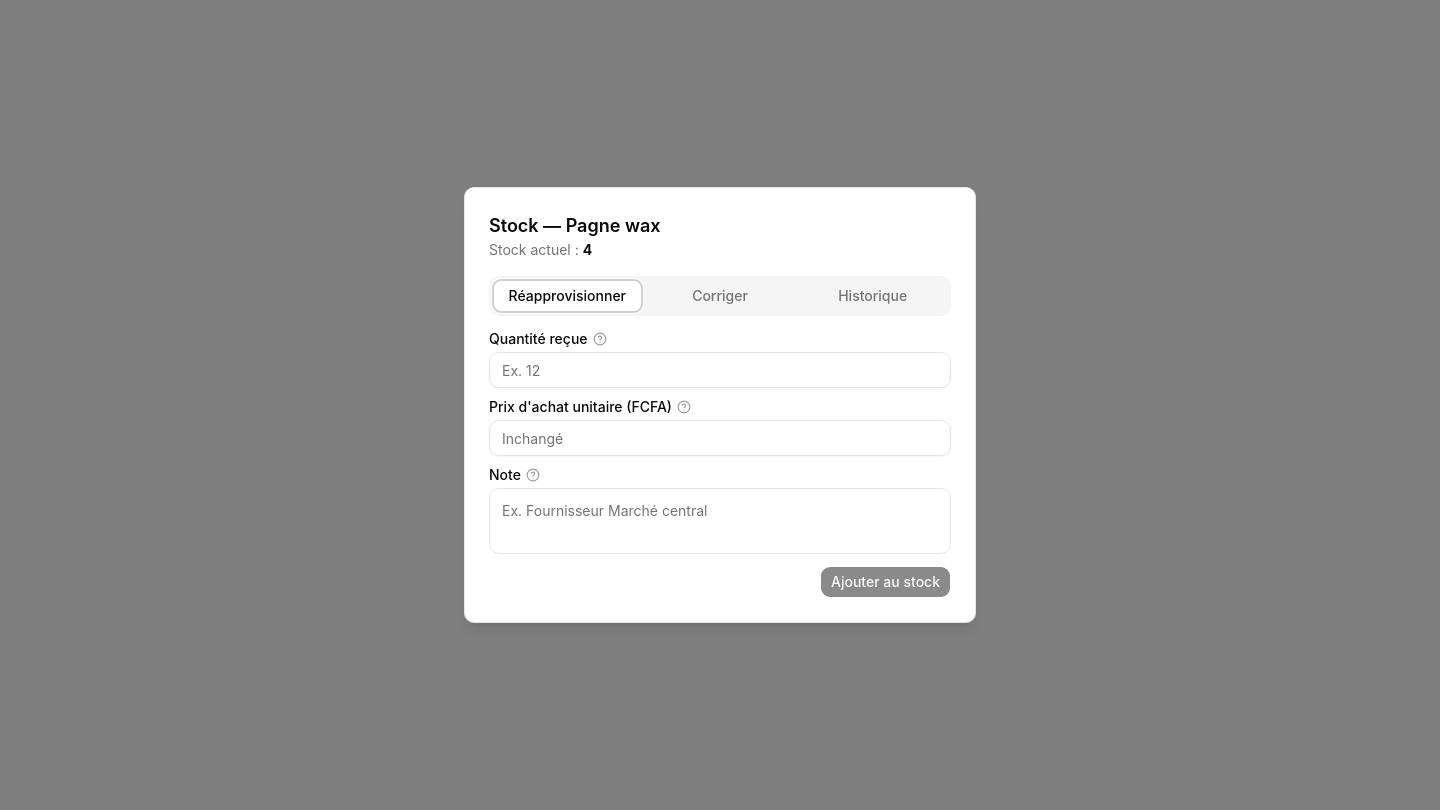
Scenario: StockDialog › restocks with the note and the new purchase price, then shows the new stock and the history
Type "12" into the field labelled "Quantité reçue" at [720, 370], box [489, 352, 951, 388]
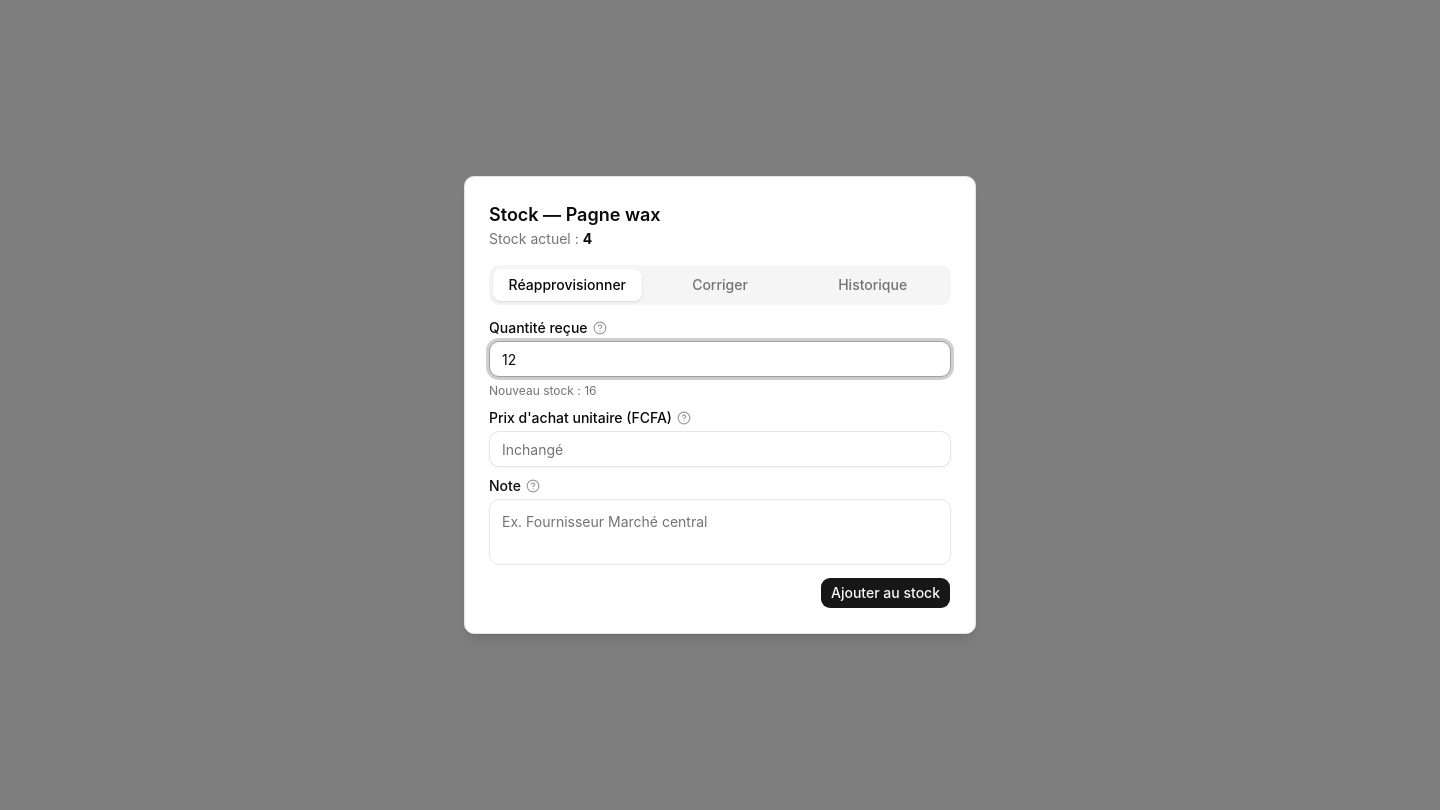
Expected: the text "Nouveau stock : 16" is shown, [489, 383, 596, 398]
Type "1500" into the field labelled "Prix d'achat unitaire (FCFA)" at [720, 449], box [489, 431, 951, 467]
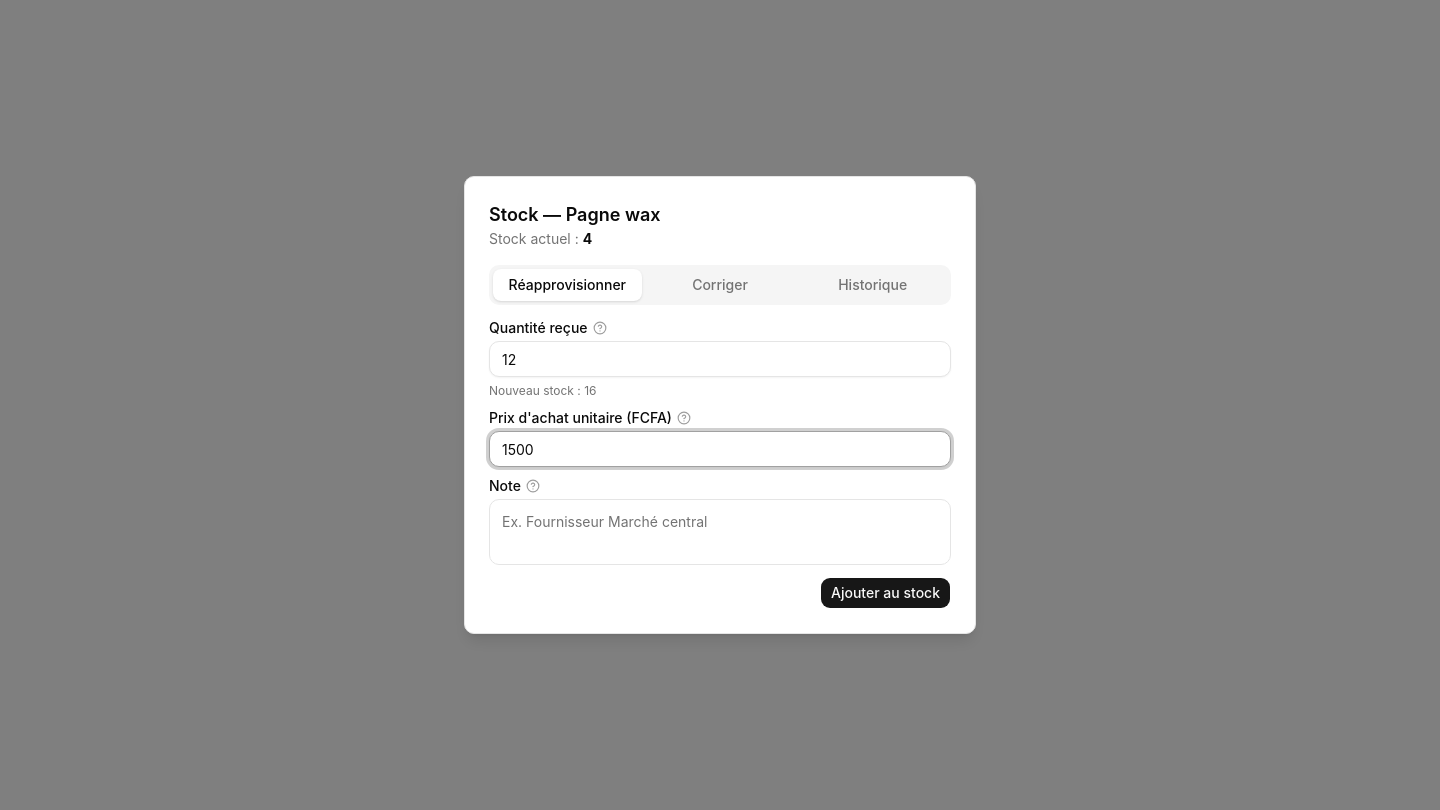
Type "Fournisseur Akwa" into the text box labelled "Note" at [720, 532], box [489, 499, 951, 565]
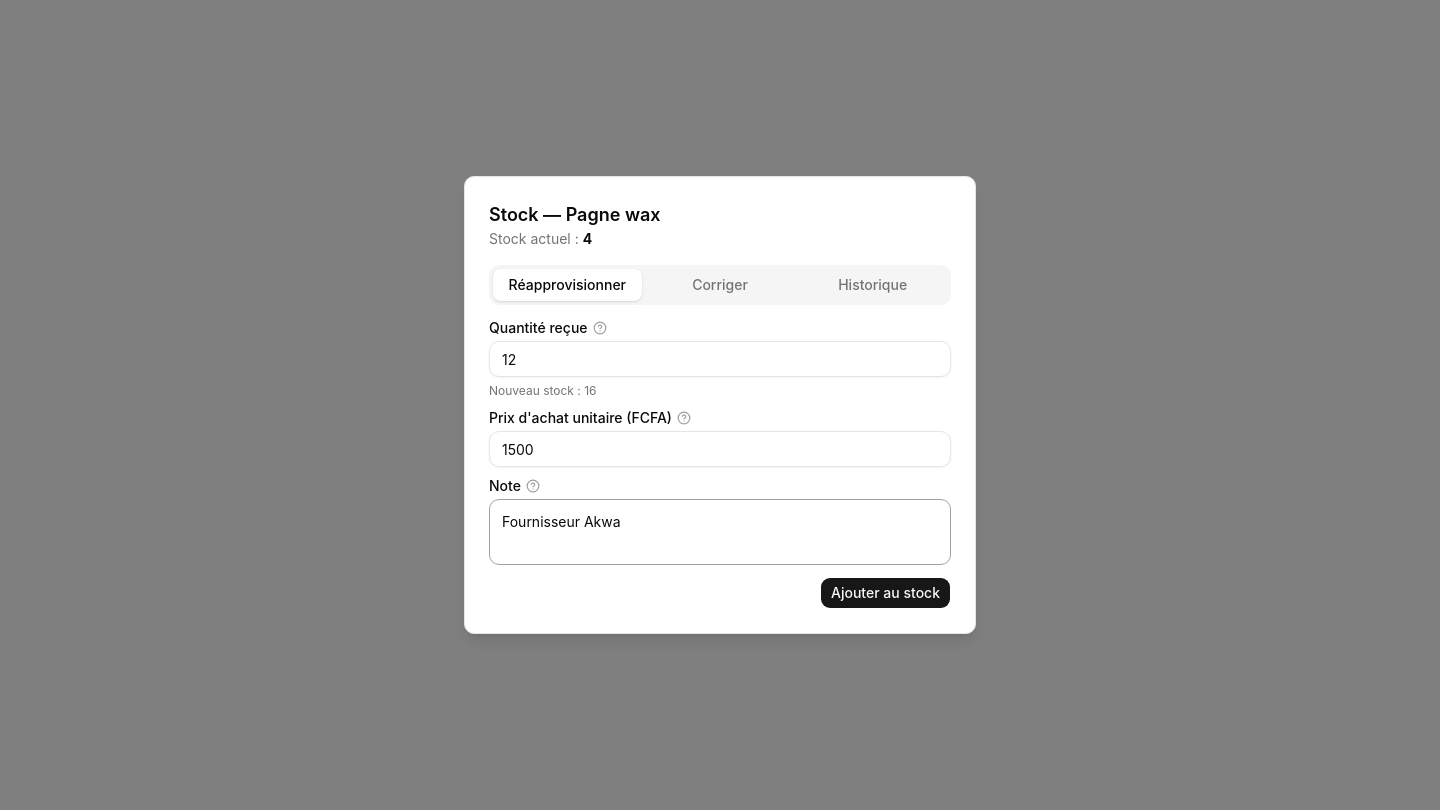
Click the button "Ajouter au stock" at [886, 593], box [820, 577, 951, 609]
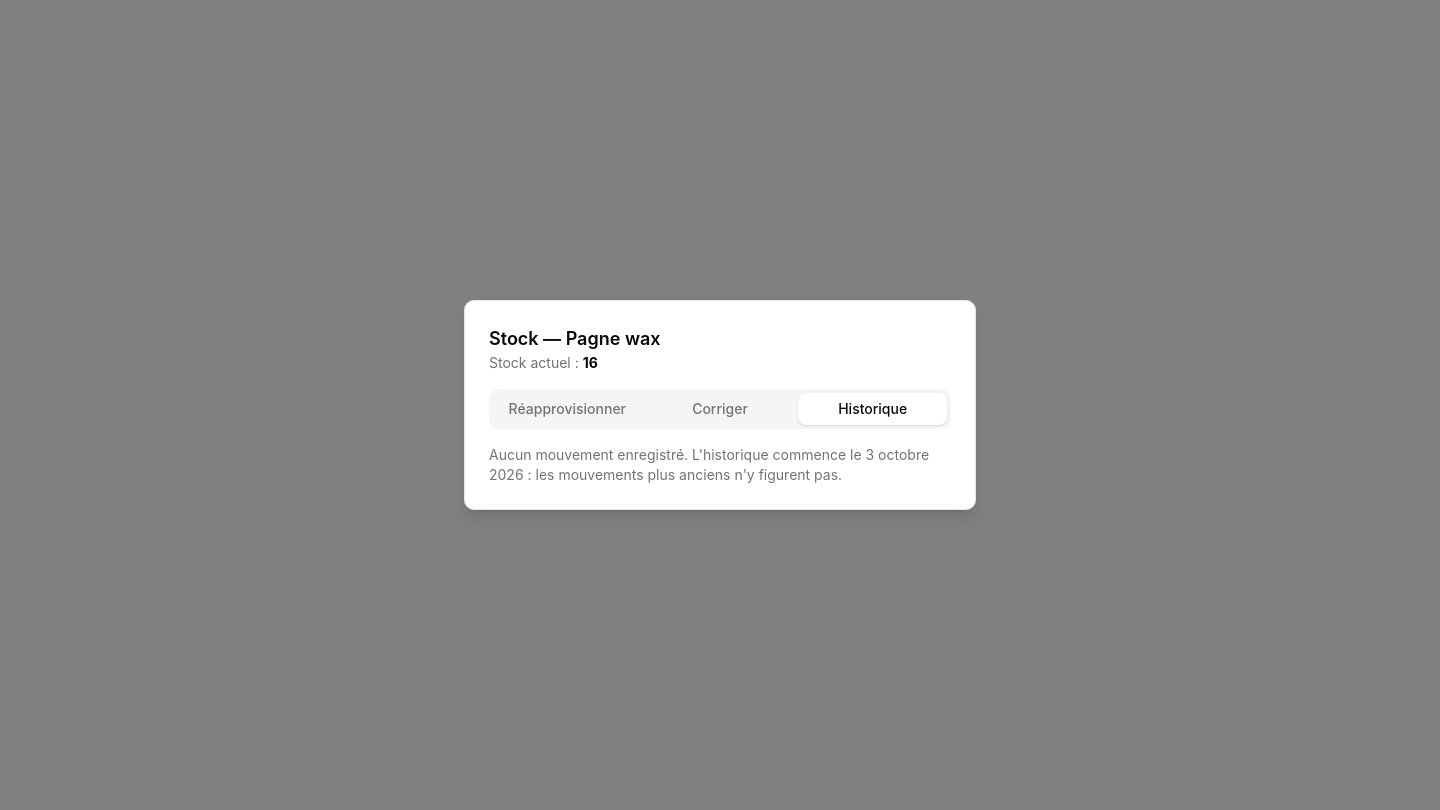
Expected: the text with test id "current-stock" reads "16", [583, 354, 598, 371]
